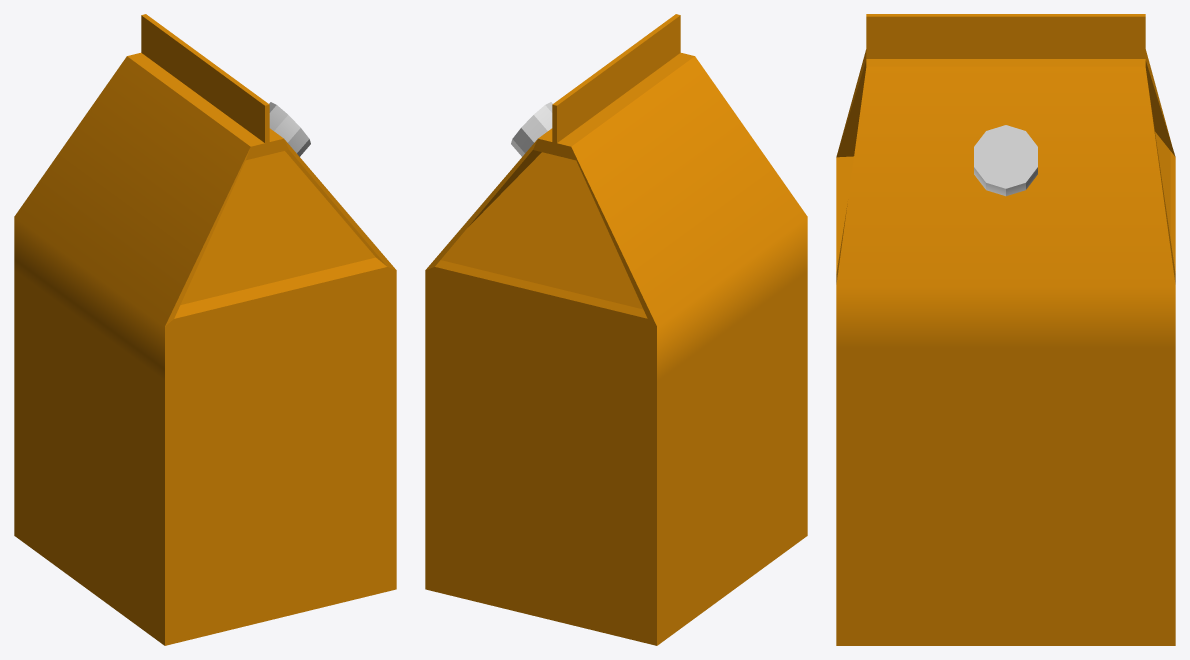
The picture shows the model from 3 angles, left to right: view 1: azimuth 30°, elevation 25°; view 2: azimuth 150°, elevation 25°; view 3: azimuth 270°, elevation 25°; orthographic projection. The views are drawn at different scales.
Visible parts, largest first — view 1: Milk1, Cap; view 2: Milk1, Cap; view 3: Milk1, Cap.
Boxes of the visible parts, <box> form: Milk1: <box>14,14,396,645</box>; Cap: <box>269,102,310,156</box>; Milk1: <box>425,14,807,645</box>; Cap: <box>511,102,552,156</box>; Milk1: <box>836,14,1175,645</box>; Cap: <box>974,125,1037,196</box>.
Size of the model in its own units: 0.1386 by 0.2873 by 0.1558.
